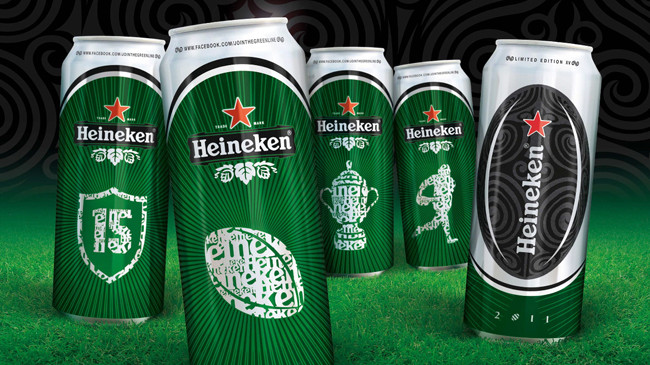beer can: (159, 16, 332, 365), (469, 39, 602, 343), (54, 32, 167, 327), (305, 44, 393, 279), (389, 60, 473, 274)
